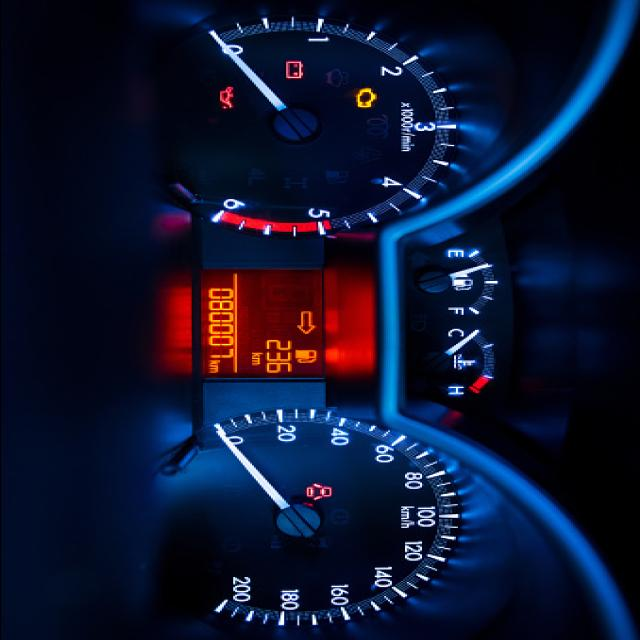Charging System Issue: (282, 59, 306, 81)
Check Engine: (352, 86, 378, 110)
Low Engine Oil Warning Light: (215, 84, 238, 110)
